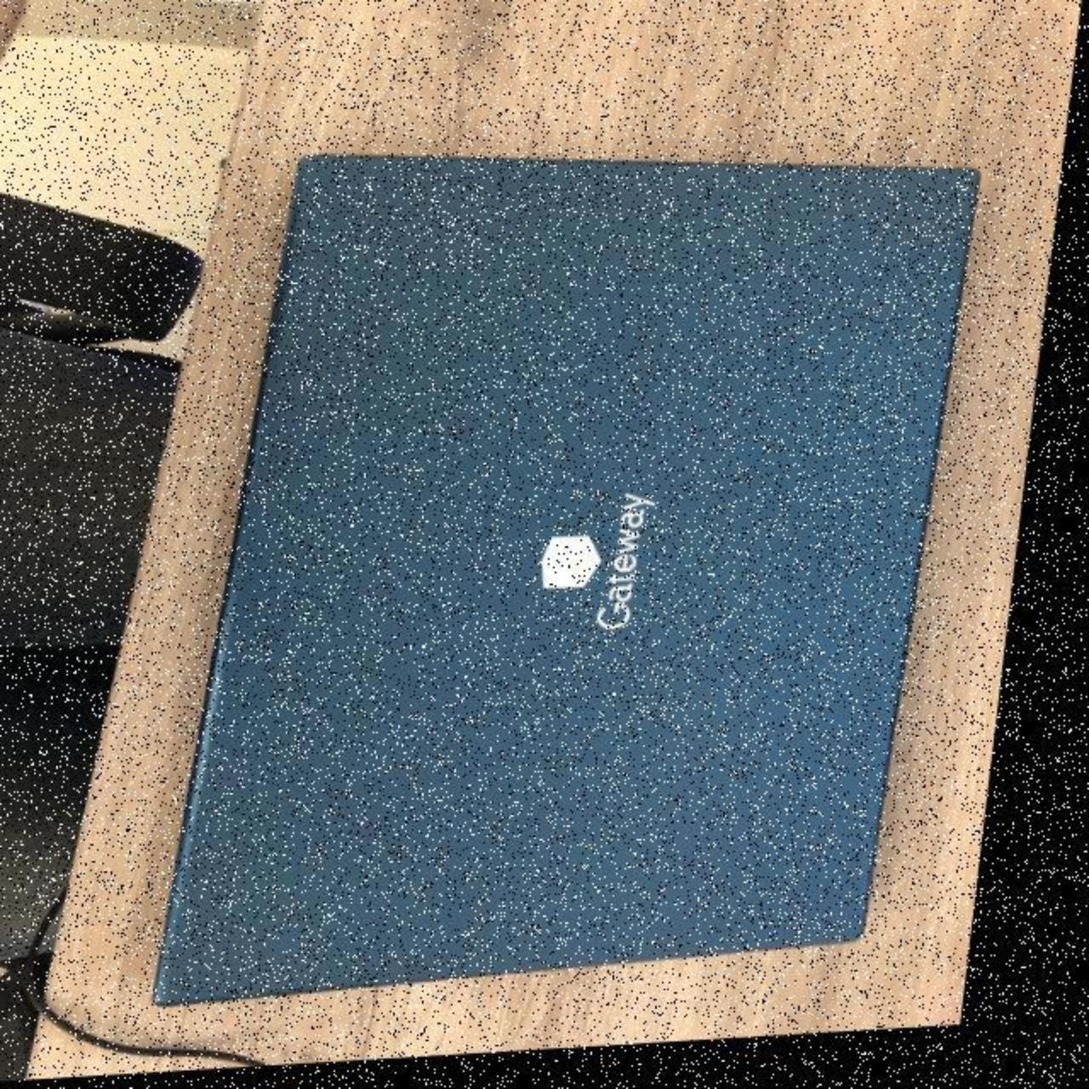laptop: (167, 123, 1001, 1023)
